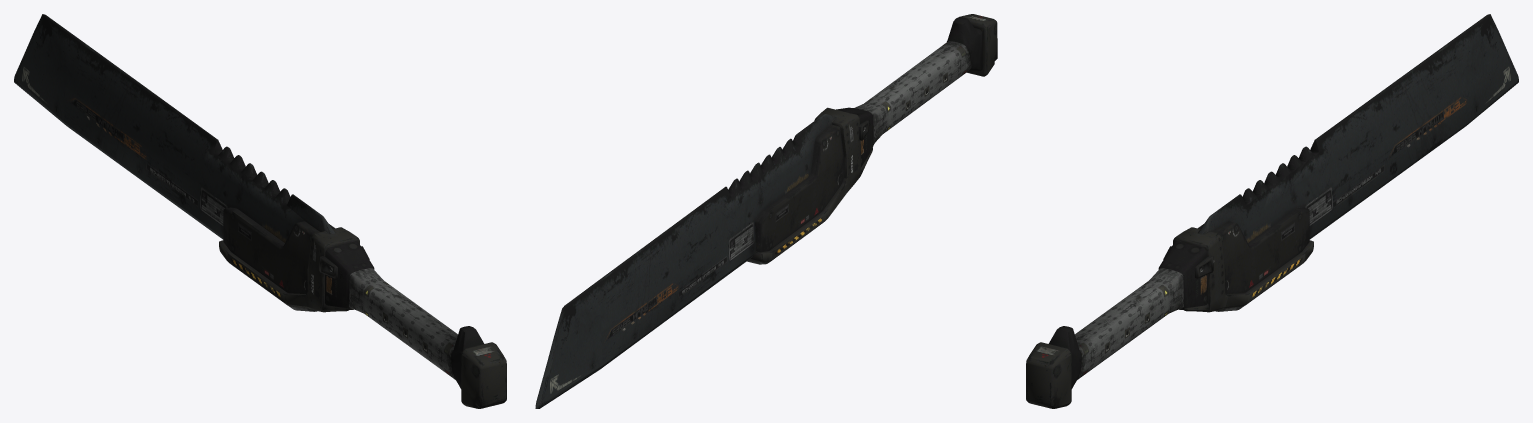
The model's file is Ronin Blade.obj.
3 renders of one model, left to right at view 1: azimuth 30°, elevation 25°; view 2: azimuth 150°, elevation 25°; view 3: azimuth 330°, elevation 25°, orthographic. The views are drawn at different scales.
Parts seen in each view (by area): view 1: ronin_w_titan_sword_lod0; view 2: ronin_w_titan_sword_lod0; view 3: ronin_w_titan_sword_lod0.
Part boxes in pixels (x1=…): ronin_w_titan_sword_lod0: x1=14, y1=14, x2=506, y2=408; ronin_w_titan_sword_lod0: x1=535, y1=14, x2=997, y2=408; ronin_w_titan_sword_lod0: x1=1026, y1=14, x2=1518, y2=408.
Size of the model in its own units: 0.2886 by 0.6554 by 5.63.
1 material, 1 textured.
